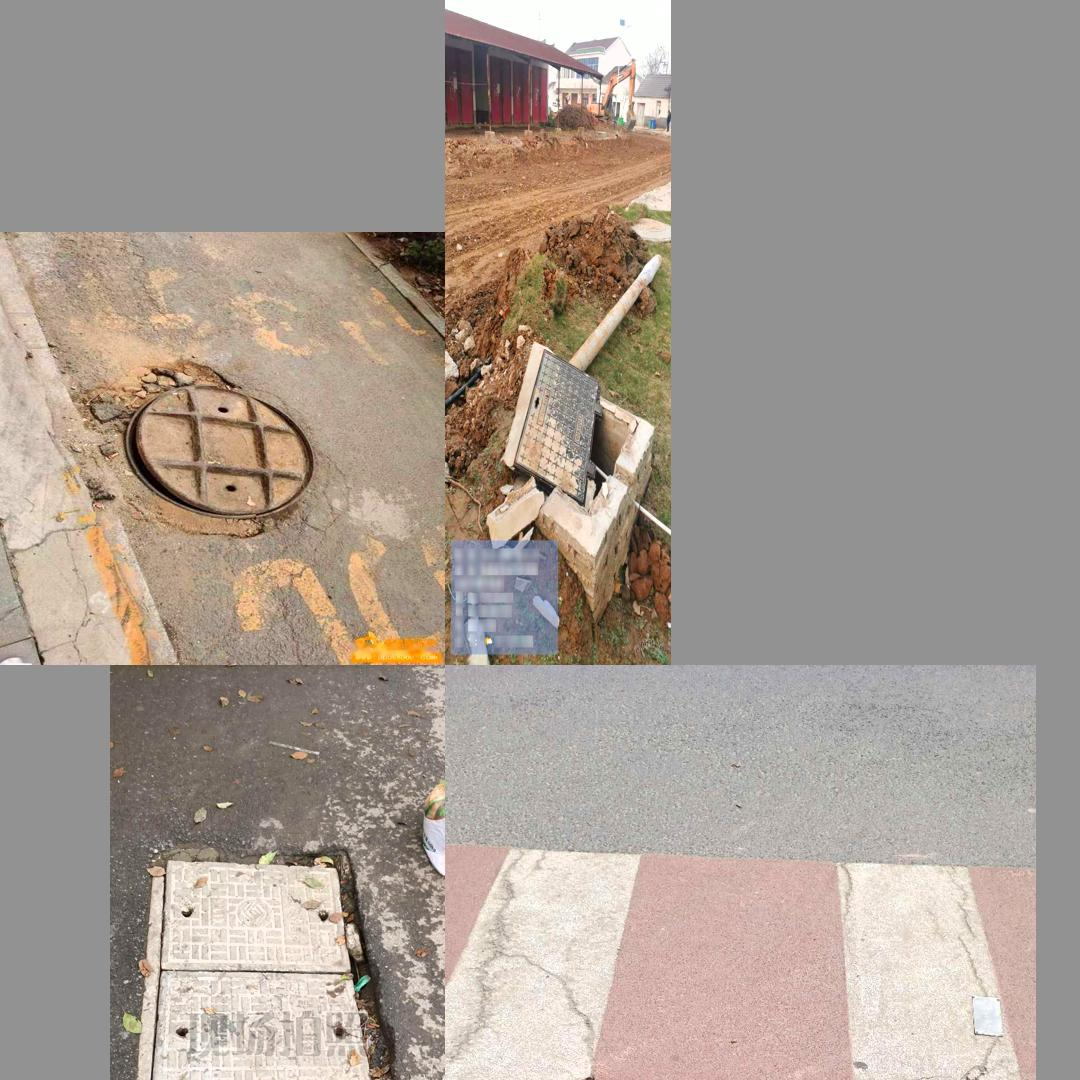circle: (48, 343, 333, 559), (138, 848, 403, 1080), (491, 339, 644, 542)
